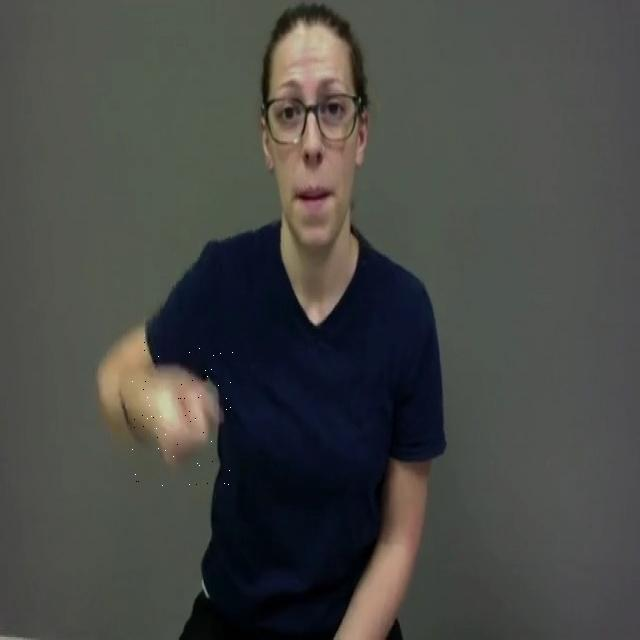bag: (132, 342, 234, 486)
